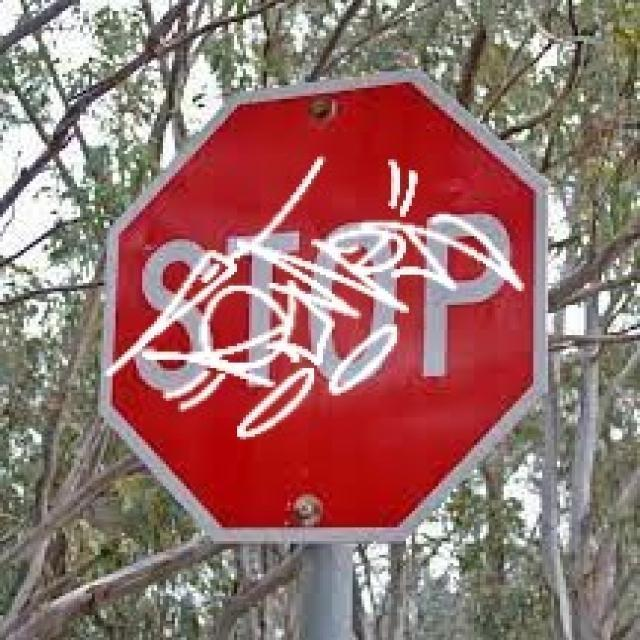Stop-Sign: (117, 81, 538, 522)
